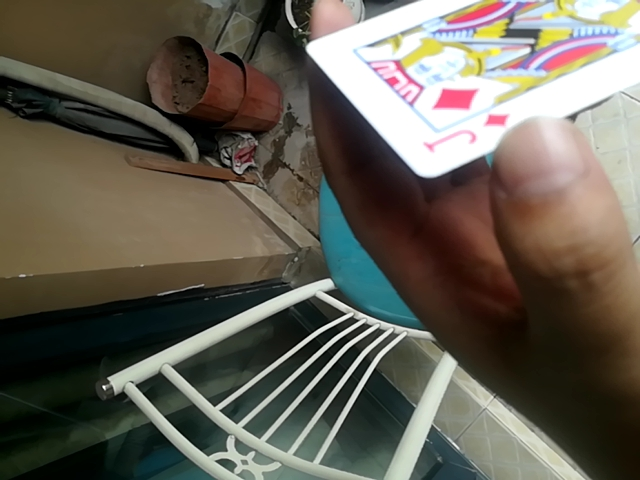fk j: (295, 3, 639, 178)
